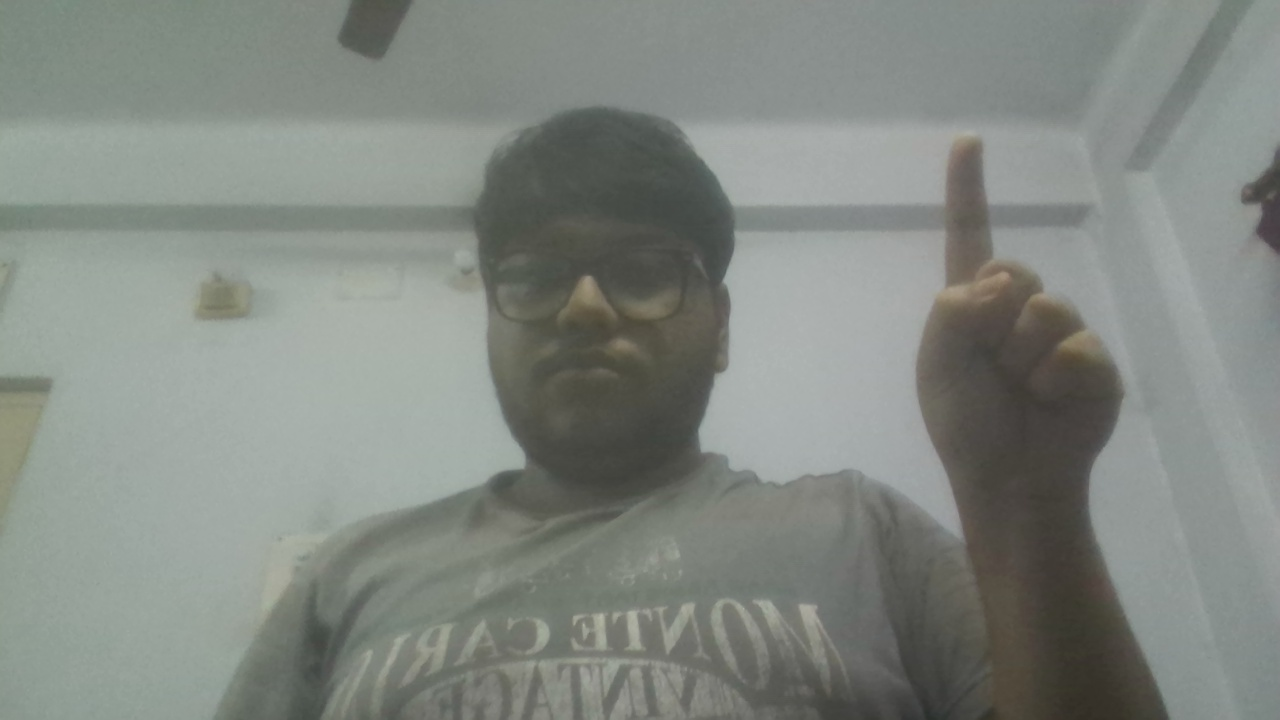Gesture1: (903, 123, 1137, 503)
